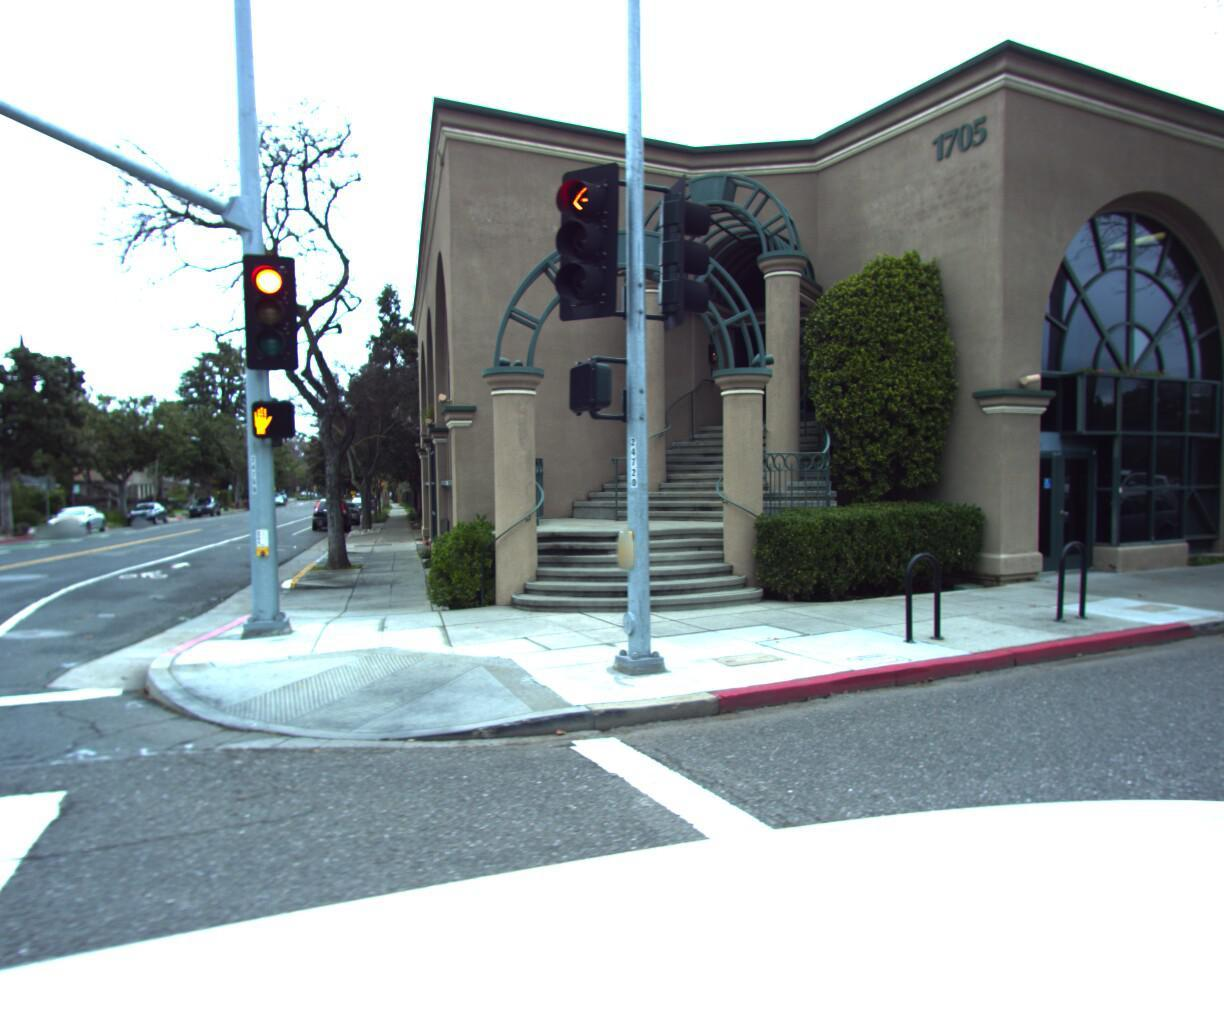car: (40, 503, 116, 540), (308, 496, 357, 533), (125, 502, 175, 527), (325, 496, 365, 525), (189, 500, 224, 519)
